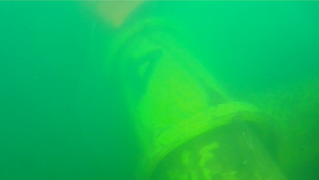4: (124, 48, 163, 105)
leak: (95, 1, 142, 29)
pipe: (101, 16, 291, 180), (247, 73, 319, 168)
